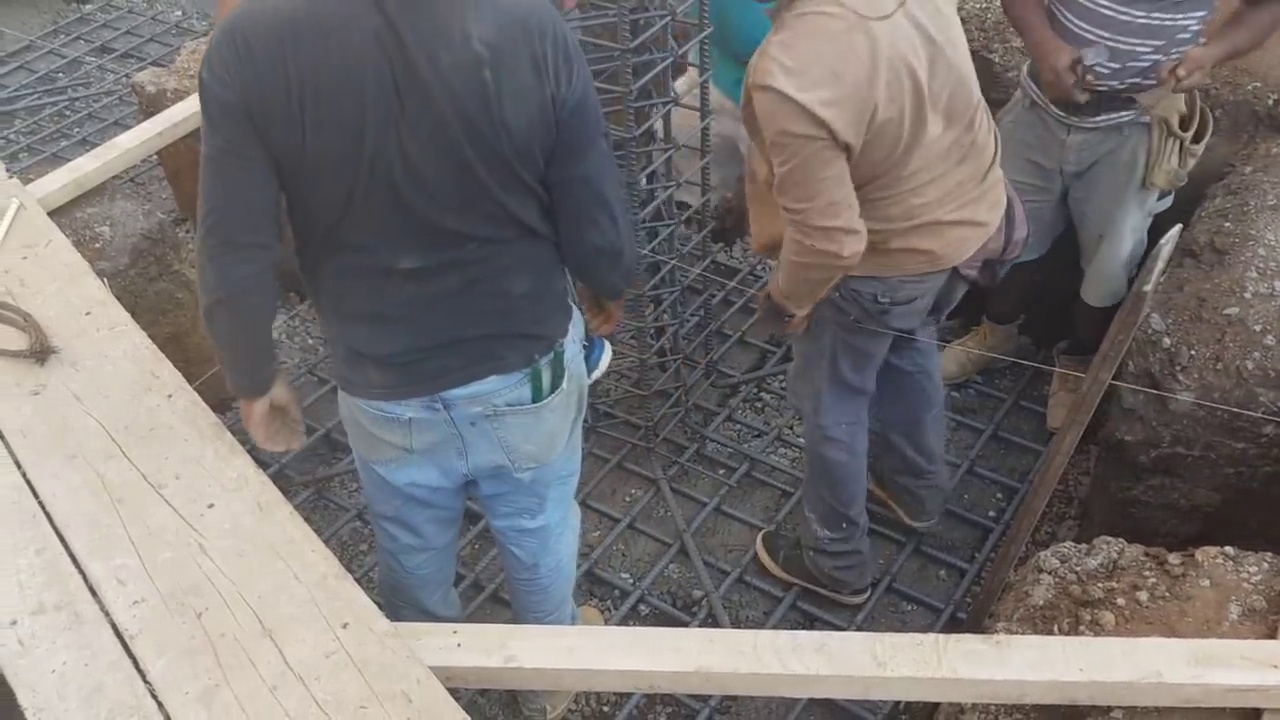person: (174, 20, 644, 651), (713, 0, 1047, 566), (985, 0, 1253, 373), (646, 19, 773, 229)
